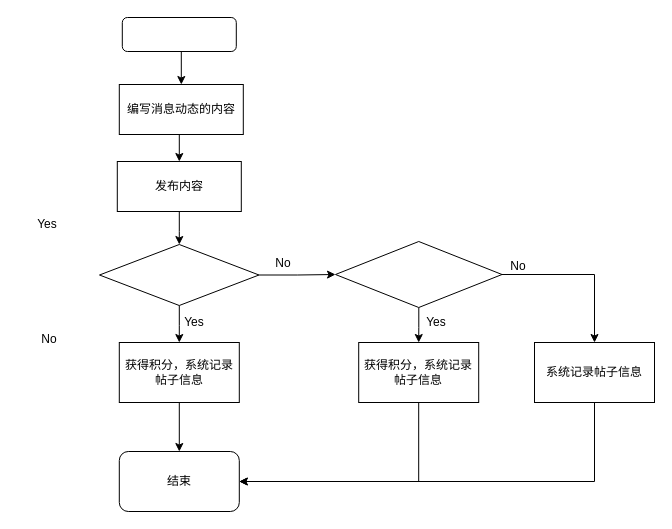
Image size: 672x529. Some labels were removed from this diagram. Here are the shapes that lost their labels. From the top down, the centre of each, then its label:
point 178,34: 开始
point 178,275: 是否为当日第一次发帖
point 418,274: 是否有已完成预约上门订单
